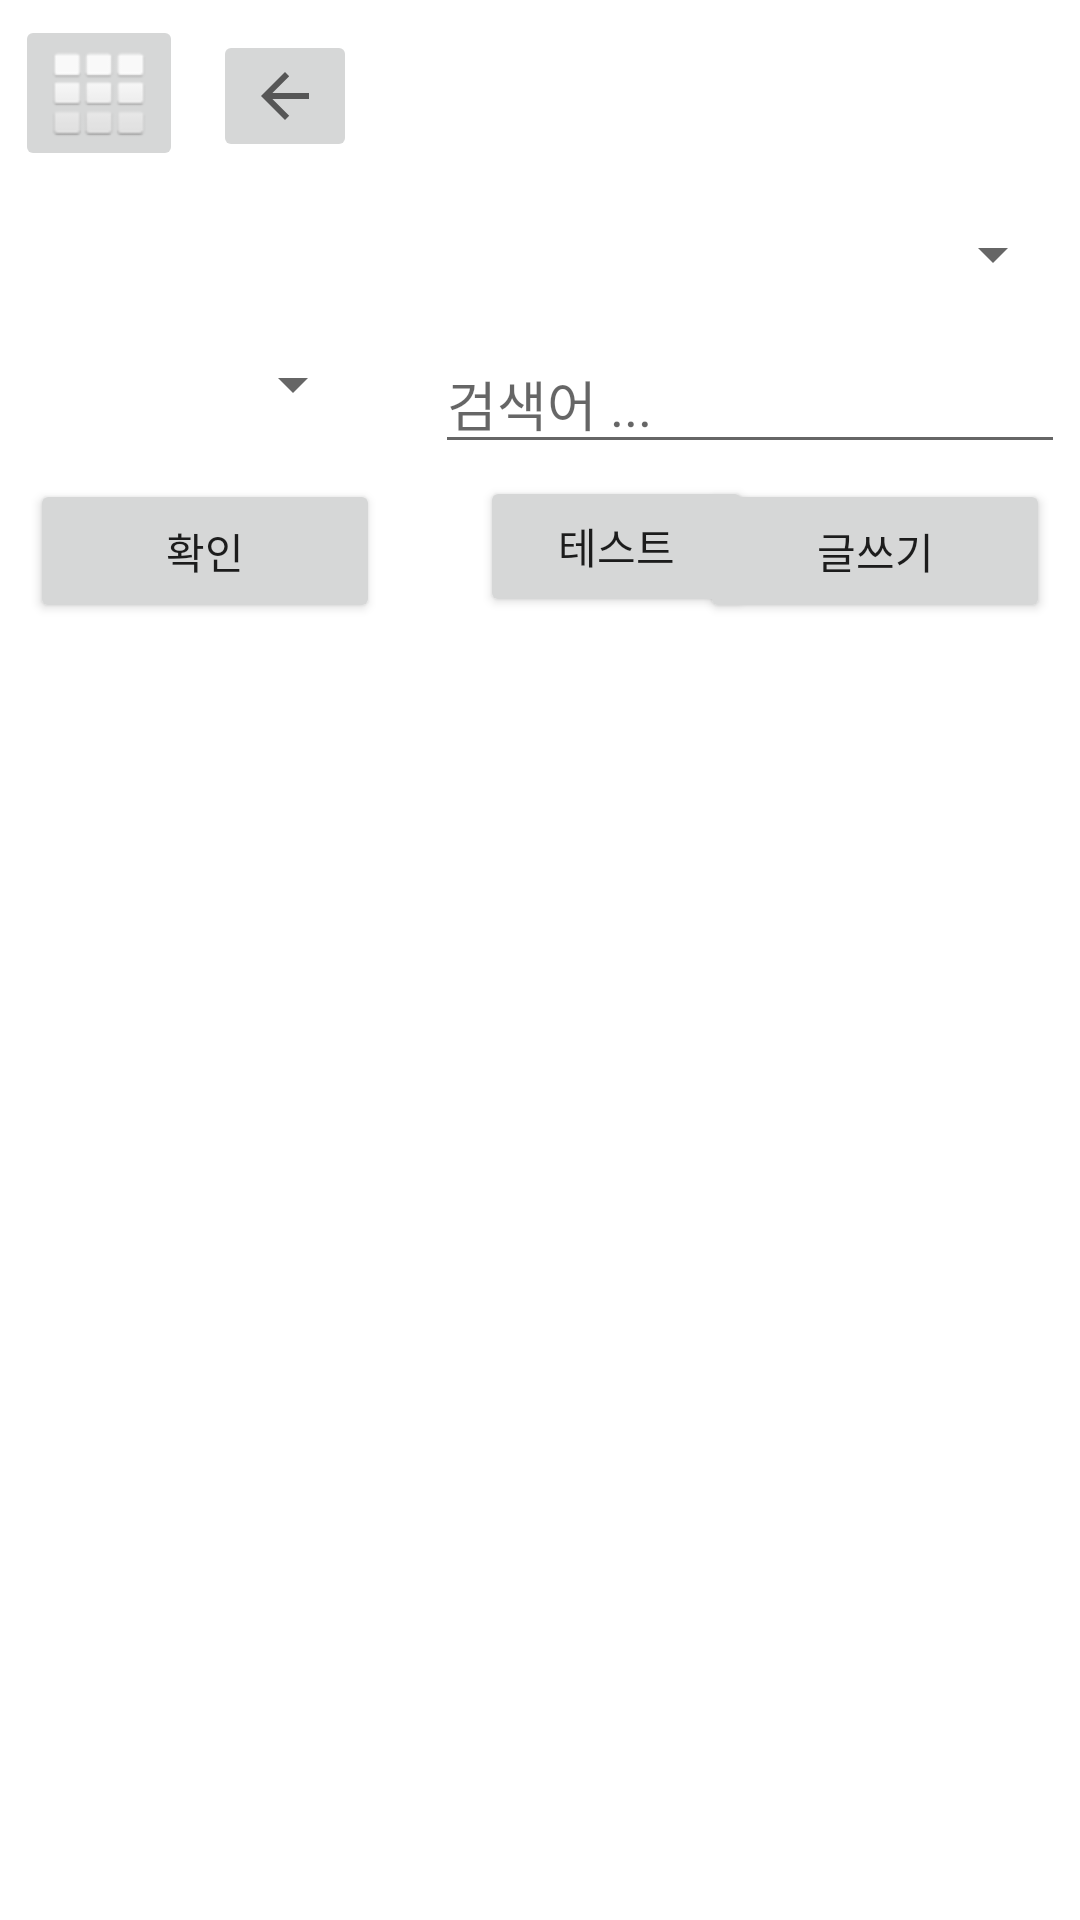

Icon click points for this 1080px×1920px phone screenshot, format (x=x, y=y):
dialer: (x=99, y=93)
